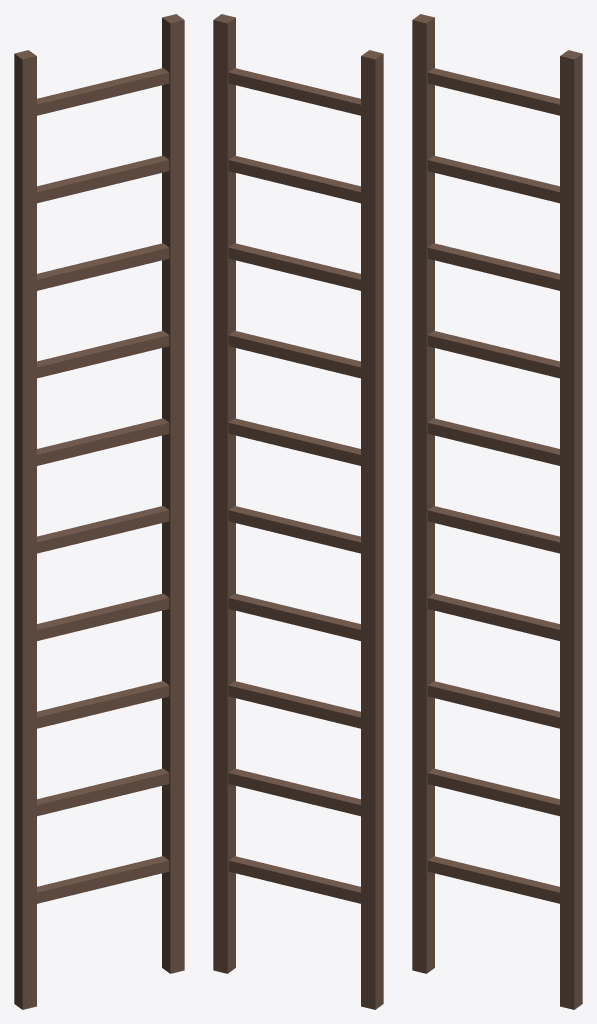
File: LADDER.fbx
The picture shows the model from 3 angles, left to right: view 1: azimuth 30°, elevation 25°; view 2: azimuth 150°, elevation 25°; view 3: azimuth 330°, elevation 25°; orthographic projection.
Parts seen in each view (by area): view 1: Cube.001; view 2: Cube.001; view 3: Cube.001.
Part boxes in pixels (x1,y1,x2,y2): Cube.001: [14, 14, 184, 1009]; Cube.001: [213, 14, 383, 1009]; Cube.001: [412, 14, 582, 1009].
Bounding box in the file's own units: 400 × 2240 × 35.25.
